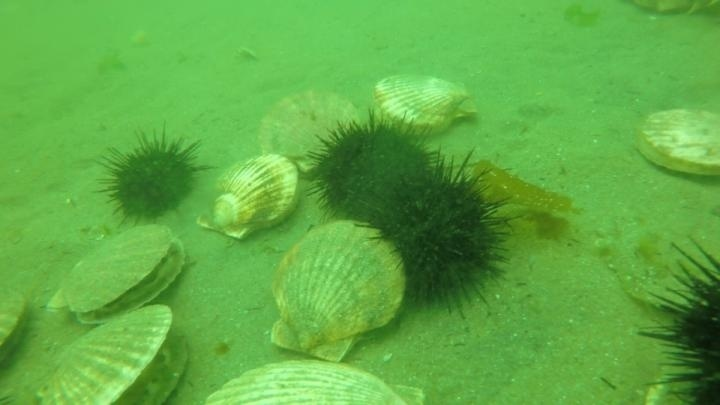echinus: (366, 151, 515, 315), (304, 109, 442, 228), (625, 233, 720, 405), (95, 125, 210, 228)
scallop: (262, 221, 411, 365), (19, 301, 192, 405), (56, 222, 192, 326), (249, 80, 376, 172), (195, 149, 305, 245), (203, 355, 415, 404), (366, 69, 480, 139), (634, 104, 720, 184), (0, 290, 38, 373)
